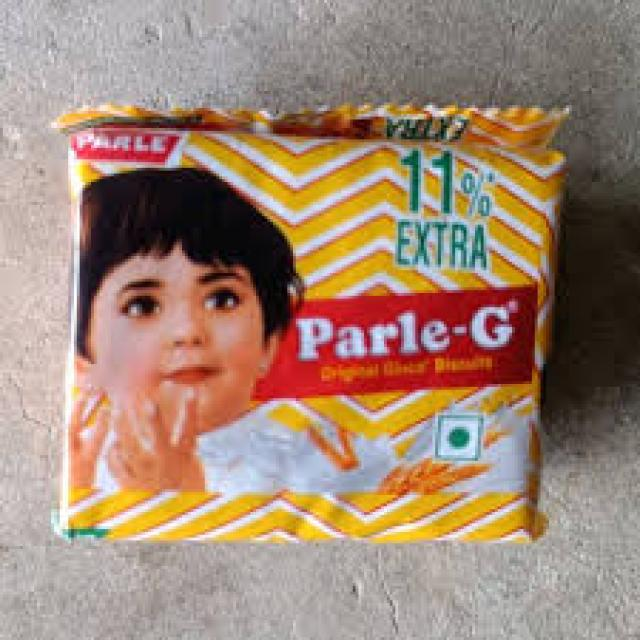parle-g: (54, 106, 556, 544)
